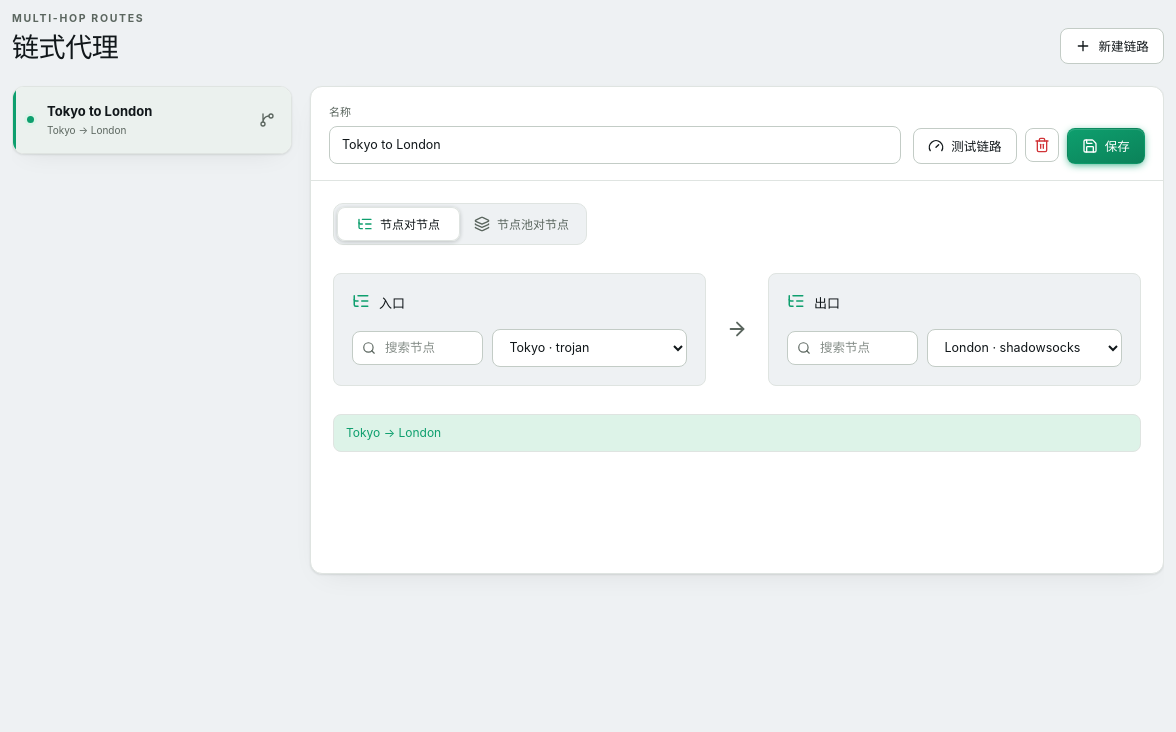
Test: ChainsView › renders the complete entry-to-exit path after testing
Click the button "测试链路". click: (965,146)
box: [913,128,1017,164]
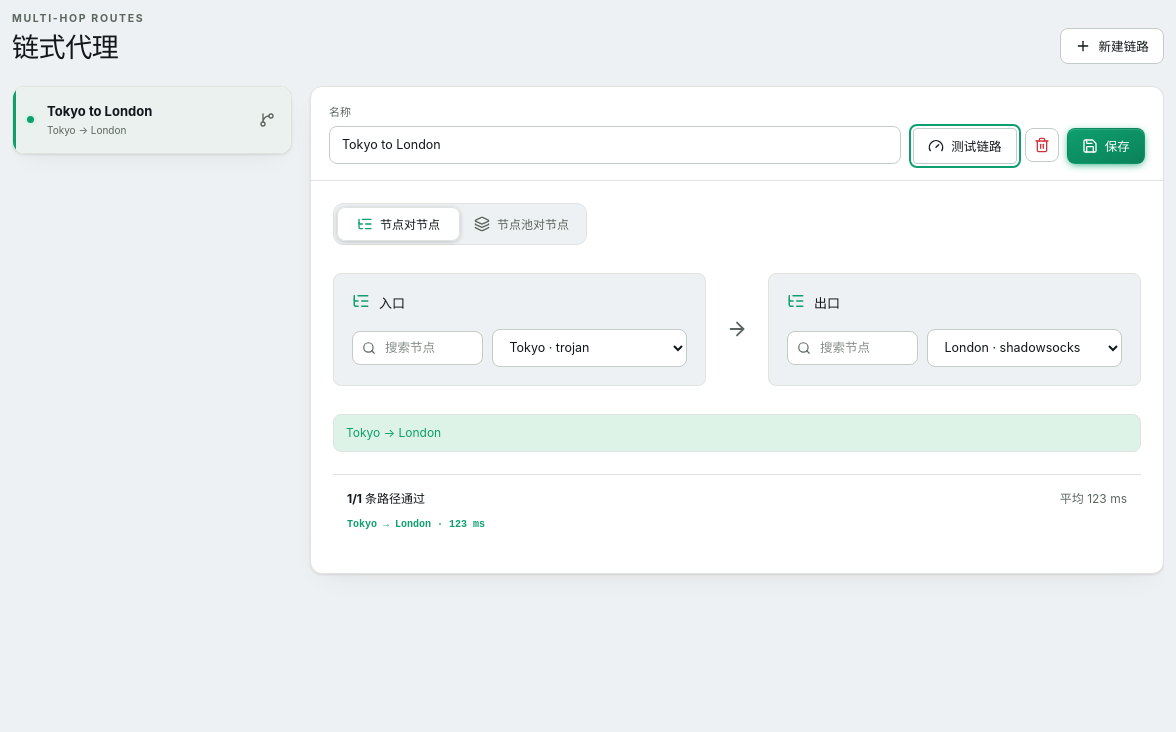
Now the text "Tokyo → London · 123 ms" is shown, box [347,518,485,530]
